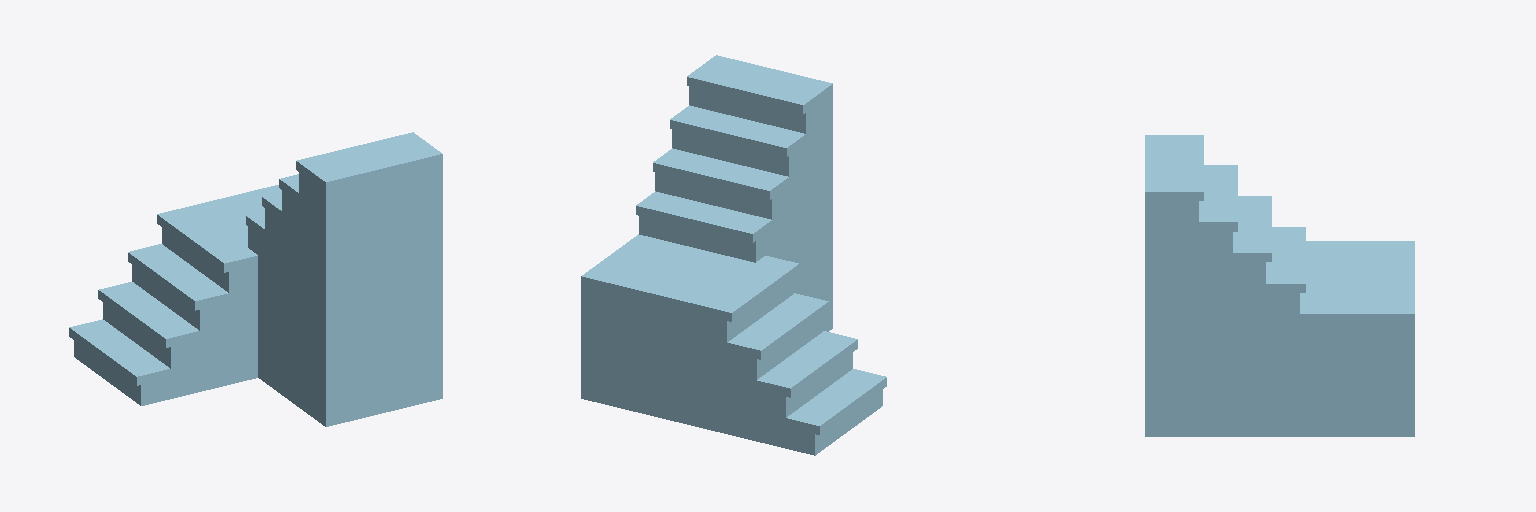
File: stairsStoneCorner.obj
The picture shows the model from 3 angles: view 1: azimuth 30°, elevation 25°; view 2: azimuth 150°, elevation 25°; view 3: azimuth 270°, elevation 25°; orthographic projection.
Visible parts, largest first — view 1: stairsStoneCorner; view 2: stairsStoneCorner; view 3: stairsStoneCorner.
Part boxes in pixels (x1,y1,x2,y2): stairsStoneCorner: (69,132,442,426); stairsStoneCorner: (581,55,886,455); stairsStoneCorner: (1145,135,1414,436).
Size of the model in its own units: 1.02 by 1 by 1.